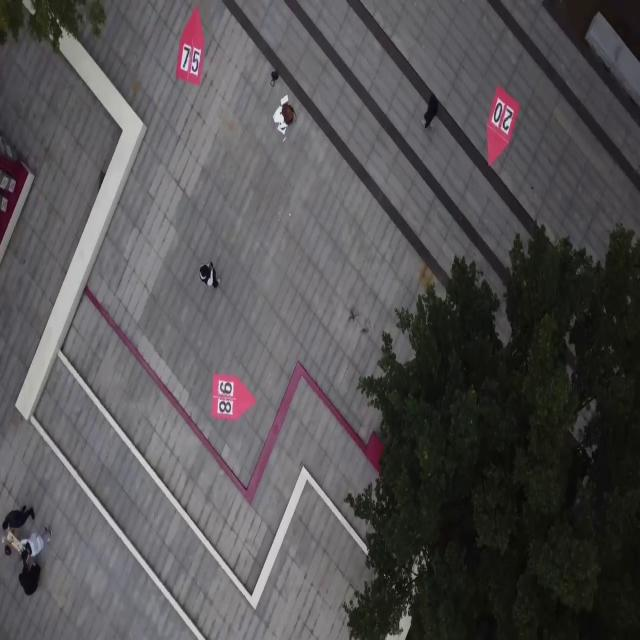-sign-: (487, 85, 520, 168), (174, 5, 205, 86), (212, 374, 256, 422)
